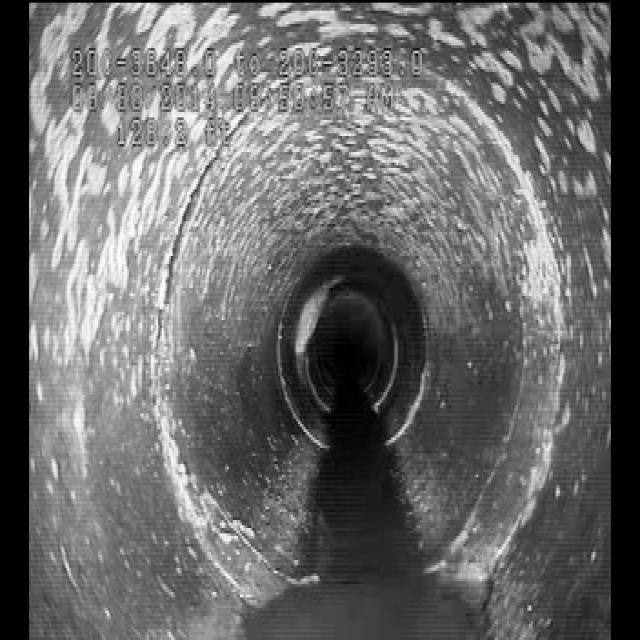Crack: (448, 304, 538, 558)
